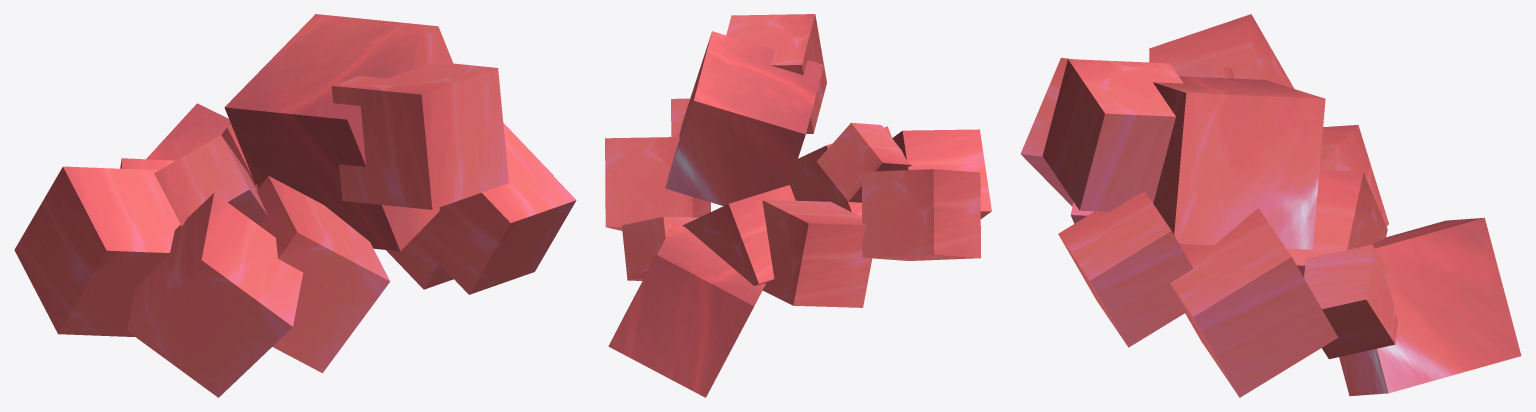
The model's file is lingmengkuang_3.fbx.
3 renders of one model, left to right at view 1: azimuth 30°, elevation 25°; view 2: azimuth 150°, elevation 25°; view 3: azimuth 270°, elevation 25°, orthographic. The views are drawn at different scales.
Visible parts, largest first — view 1: polySurface50; view 2: polySurface50; view 3: polySurface50.
Part boxes in pixels (<box>): polySurface50: <box>14,14,576,397</box>; polySurface50: <box>605,14,991,397</box>; polySurface50: <box>1020,14,1521,397</box>.
Size of the model in its own units: 119 by 85.76 by 111.
